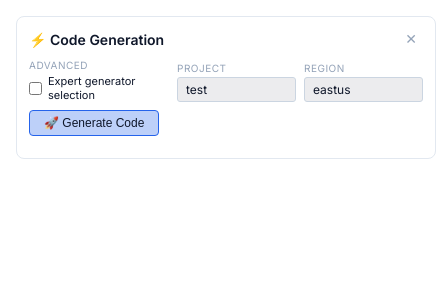
Test: CodePreview › clears previous error and output before generating
Click the button "🚀 Generate Code".
click(94, 123)  # box [29, 110, 159, 136]
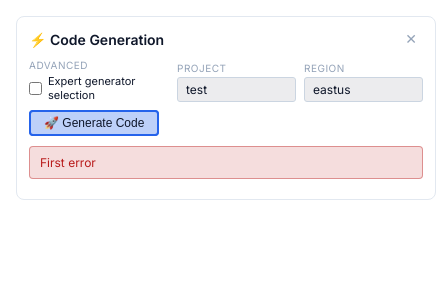
expect the text "First error" is shown: met, box [29, 146, 423, 179]
Click the button "🚀 Generate Code".
click(94, 123)  # box [29, 110, 159, 136]
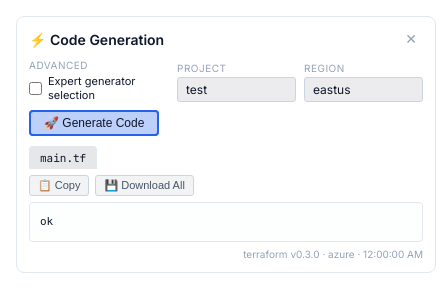
expect the text "First error" is gone: met
expect the button "main.tf" is shown: met, box [29, 146, 97, 169]
